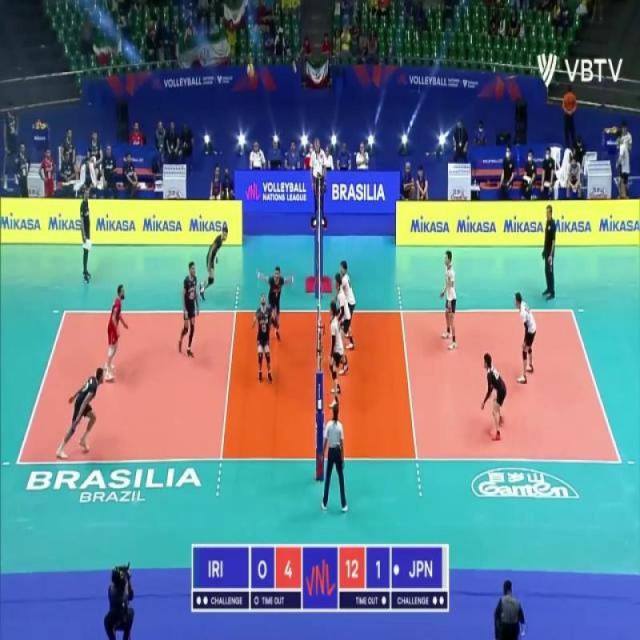volleyball: (246, 62, 256, 79)
